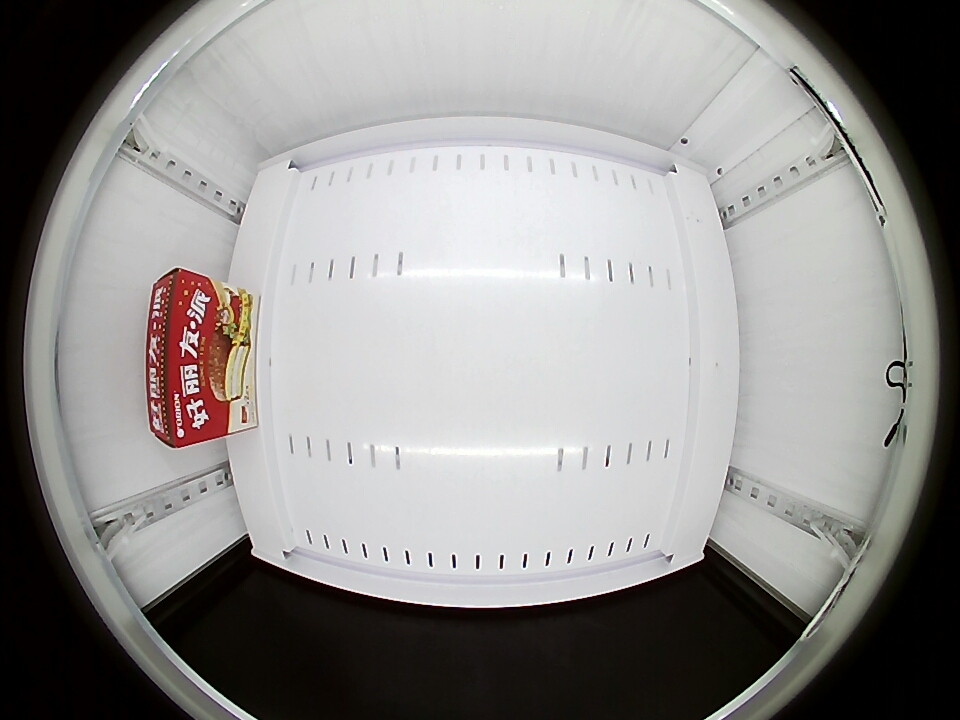haoliyou: (146, 268, 238, 449)
